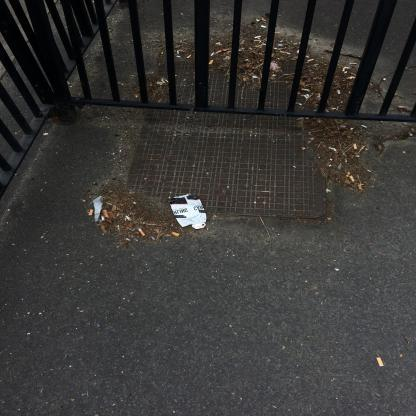metal: (170, 195, 209, 231)
